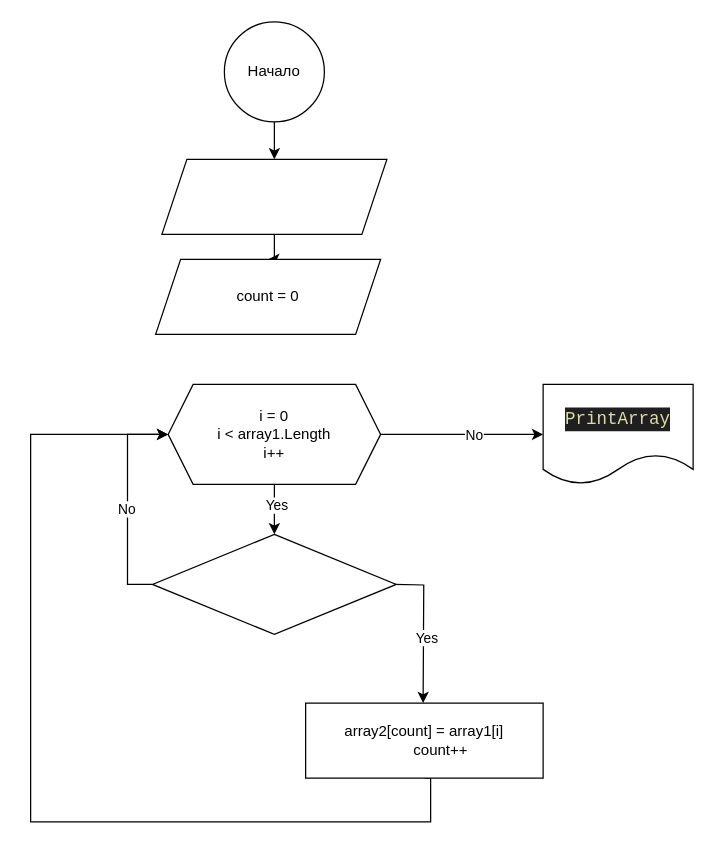
This 715x854 diagram has some shape labels left out. Each missing label, with the centre of its shape:
"array1[i].Length <= 3" goes at point 273,583.
"string[] array1 string[] array2" goes at point 274,196.
